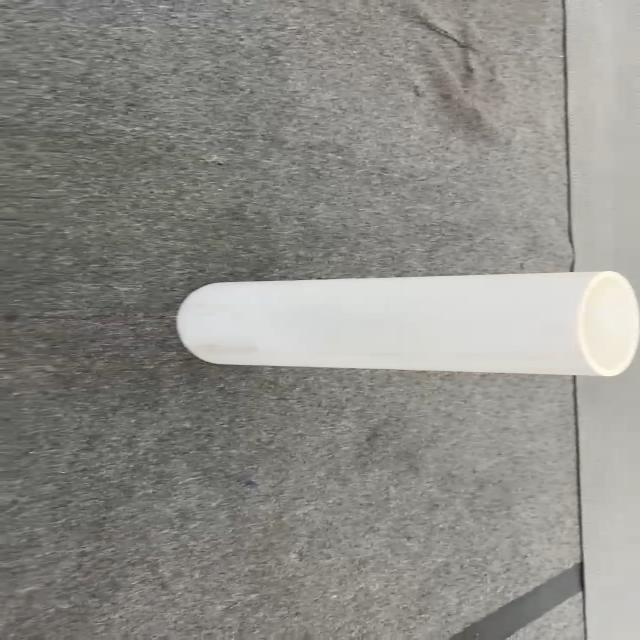coral: (174, 269, 638, 377)
